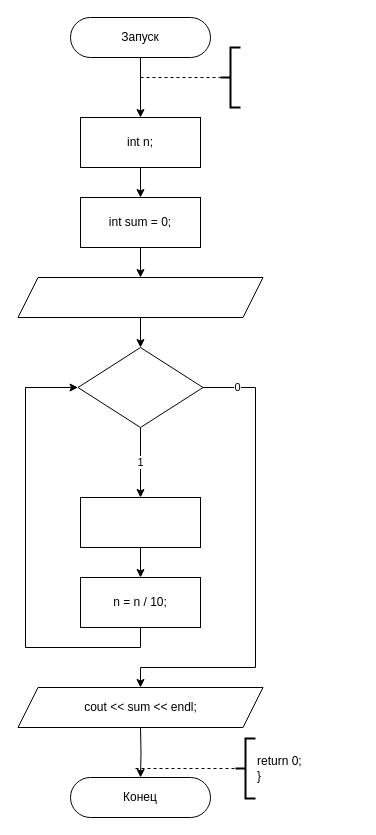
Image size: 376x835. Some labels were removed from this diagram. Each missing label, with the centre of its shape:
#include <iostream> using namespace std; int main() {: the point at 230,77
cin >> n;: the point at 140,297
sum += n % 10;: the point at 140,522
while (n > 0): the point at 140,387
